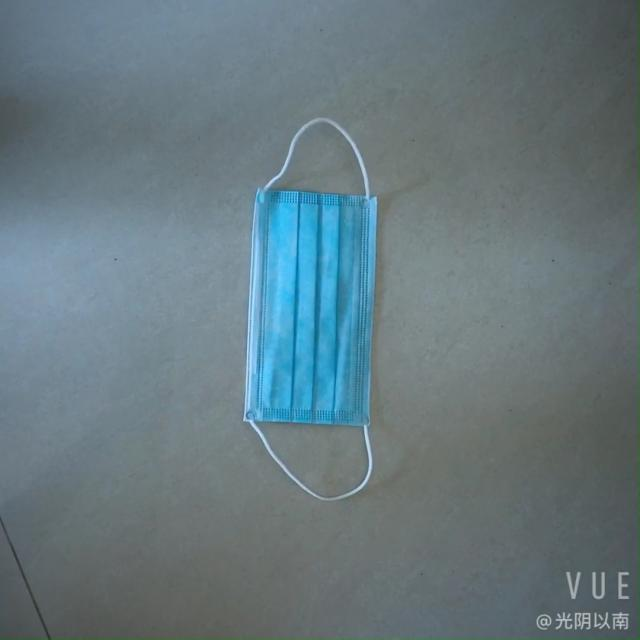face mask: (230, 181, 393, 443)
